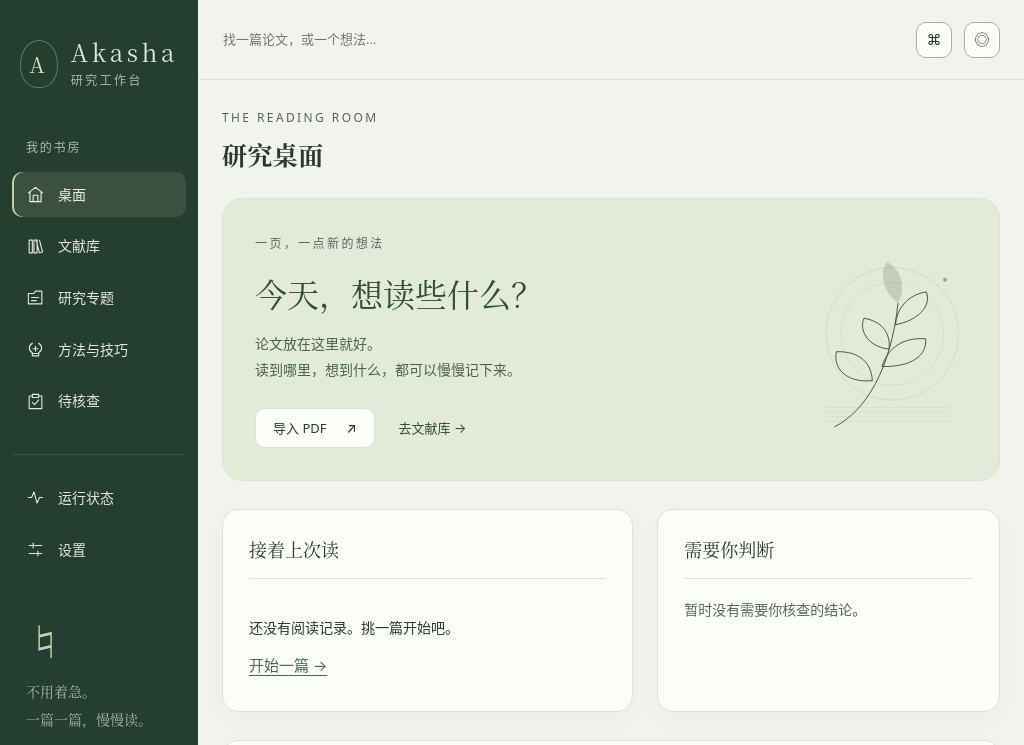
Test case: UI workflow regression › submits palette searches and guards background shortcuts inside the modal
Click the button named "命令与搜索" at (934, 40), box [916,22,952,58]
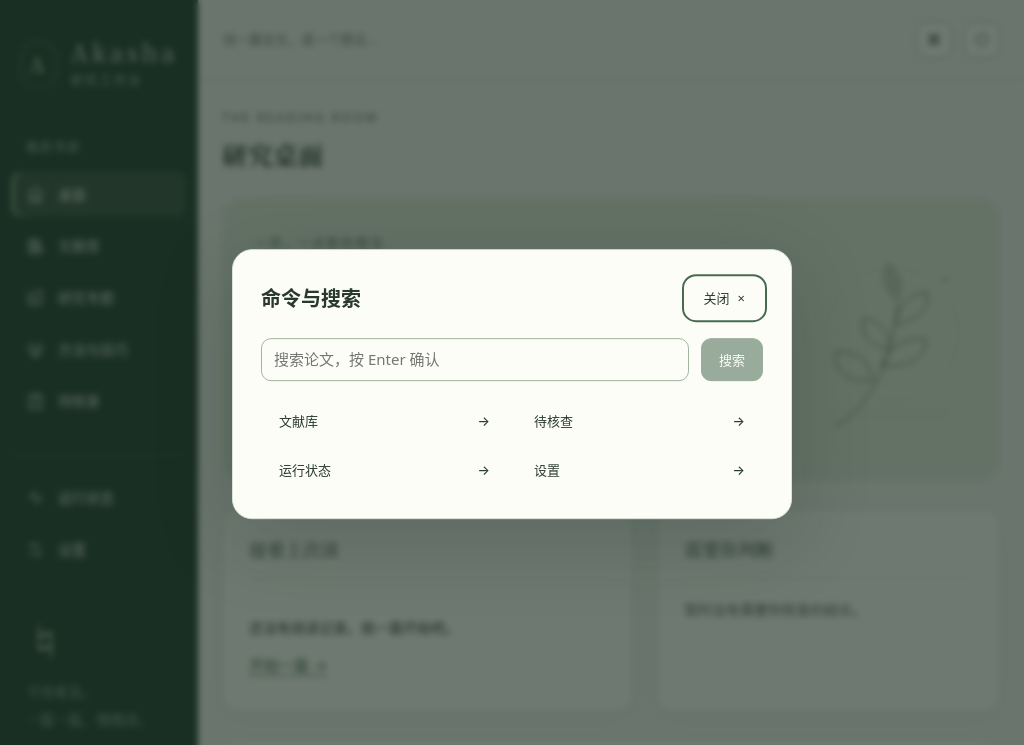
Type keys "f/"
Type "Debug" into the field at (475, 360), box [261,338,689,382]
Then press Enter
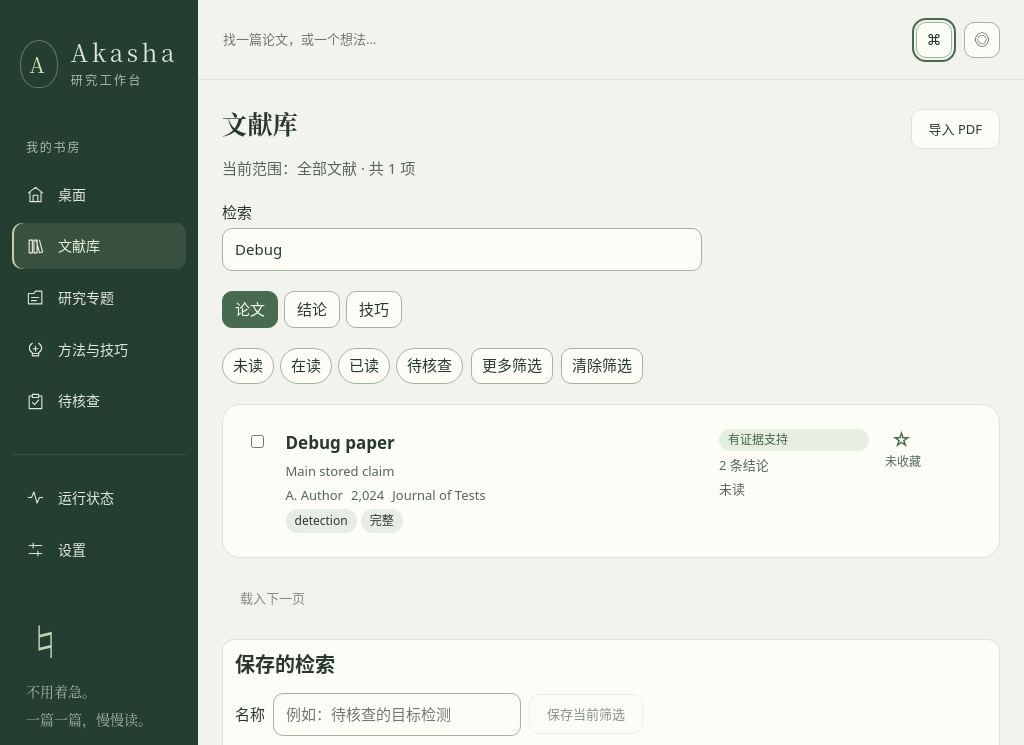
Expected: the heading "文献库" is shown, [222,105,298,141]
Expected: the dialog is gone
Expected: the link "Debug paper" is shown, [286,430,395,454]
